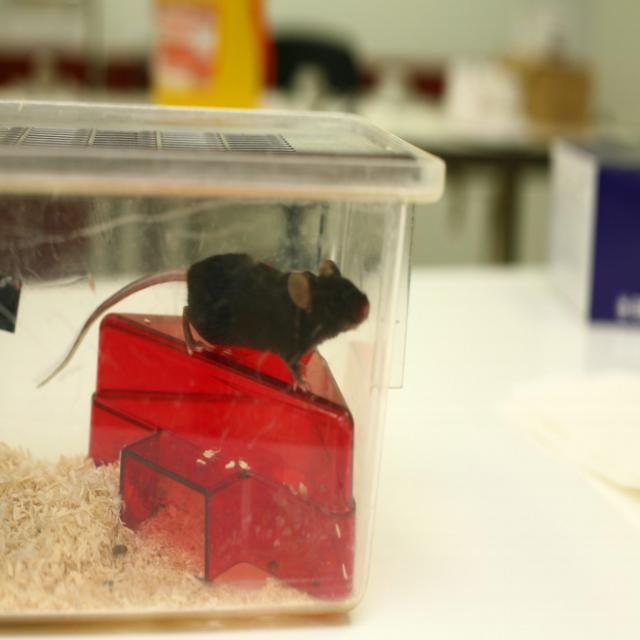rat: (37, 249, 371, 385)
